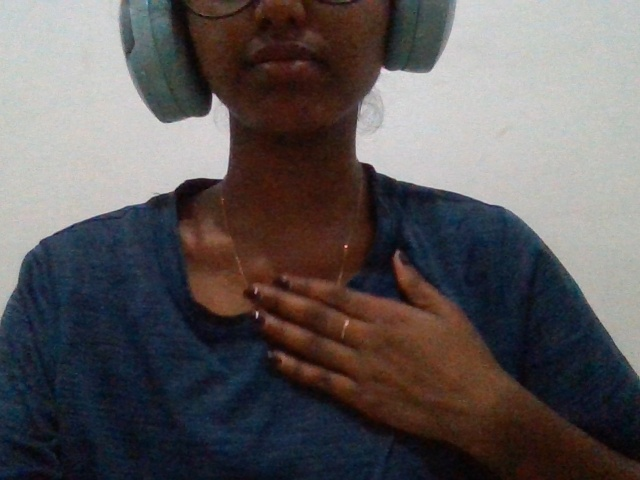Please: (234, 249, 546, 476)
